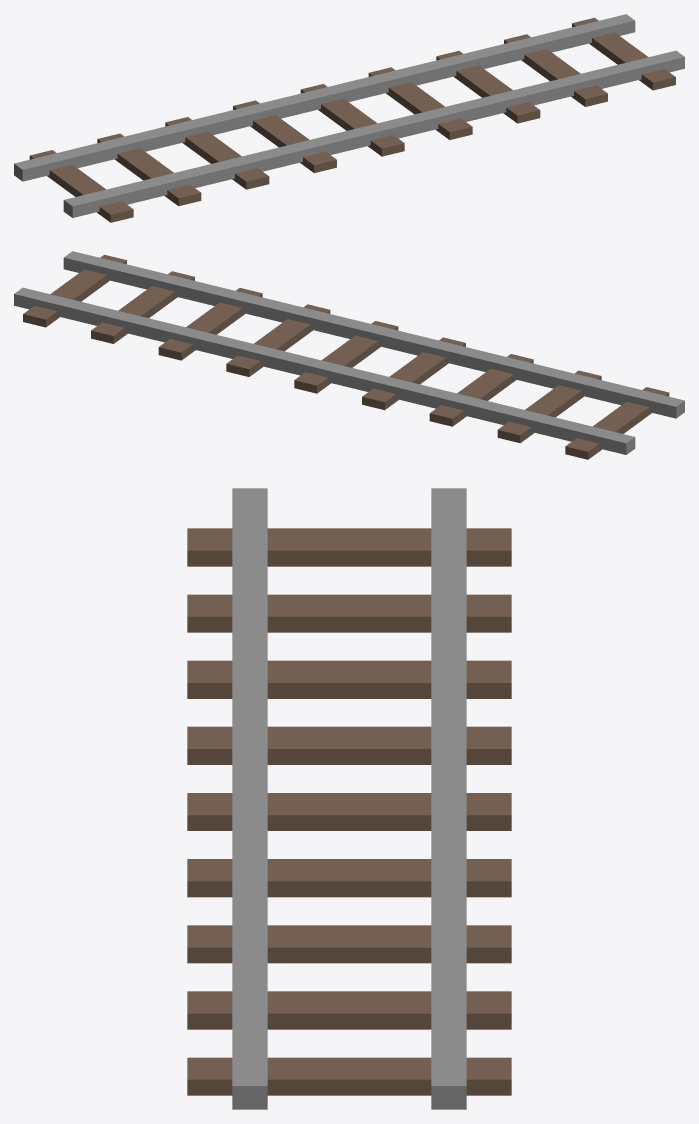
Rendered from Railway_1.fbx.
3 views of the same model, one above another, from view 1: azimuth 30°, elevation 25°; view 2: azimuth 150°, elevation 25°; view 3: azimuth 270°, elevation 25° (orthographic). The views are drawn at different scales.
Parts seen in each view (by area): view 1: Railway_1; view 2: Railway_1; view 3: Railway_1.
Part boxes in pixels (x1,y1,x2,y2): Railway_1: (14, 14, 684, 222); Railway_1: (14, 251, 684, 459); Railway_1: (187, 488, 511, 1109).
Bounding box in the file's own units: 904 × 207 × 20.84.
